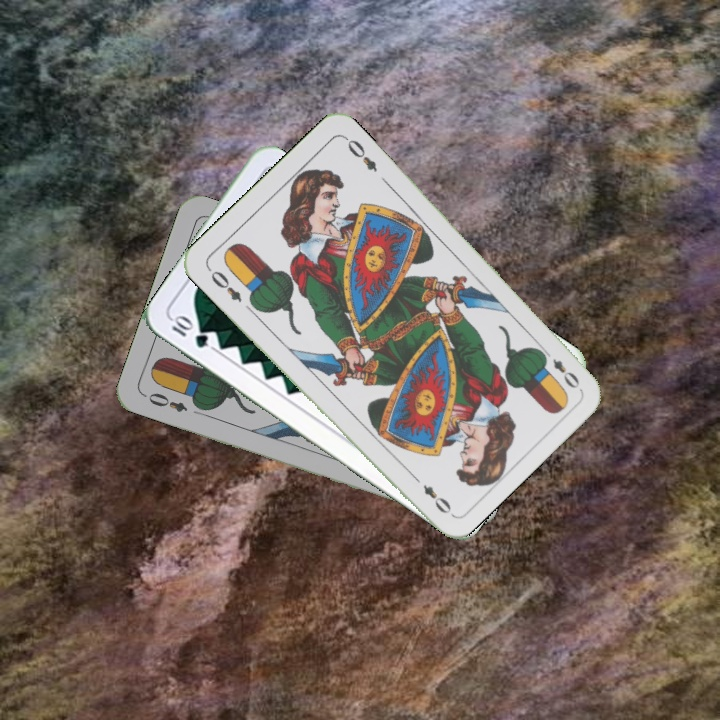EO: (537, 345, 583, 392), (207, 266, 245, 305), (144, 388, 190, 415)
G10: (166, 312, 211, 351)
